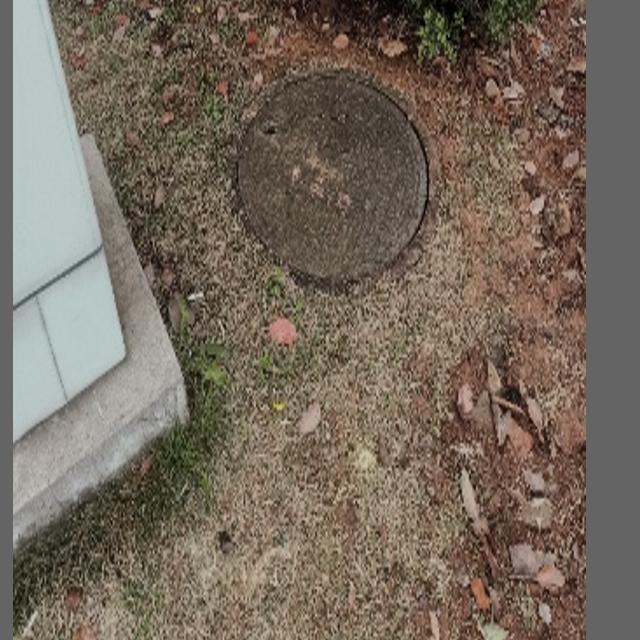good: (234, 67, 438, 294)
